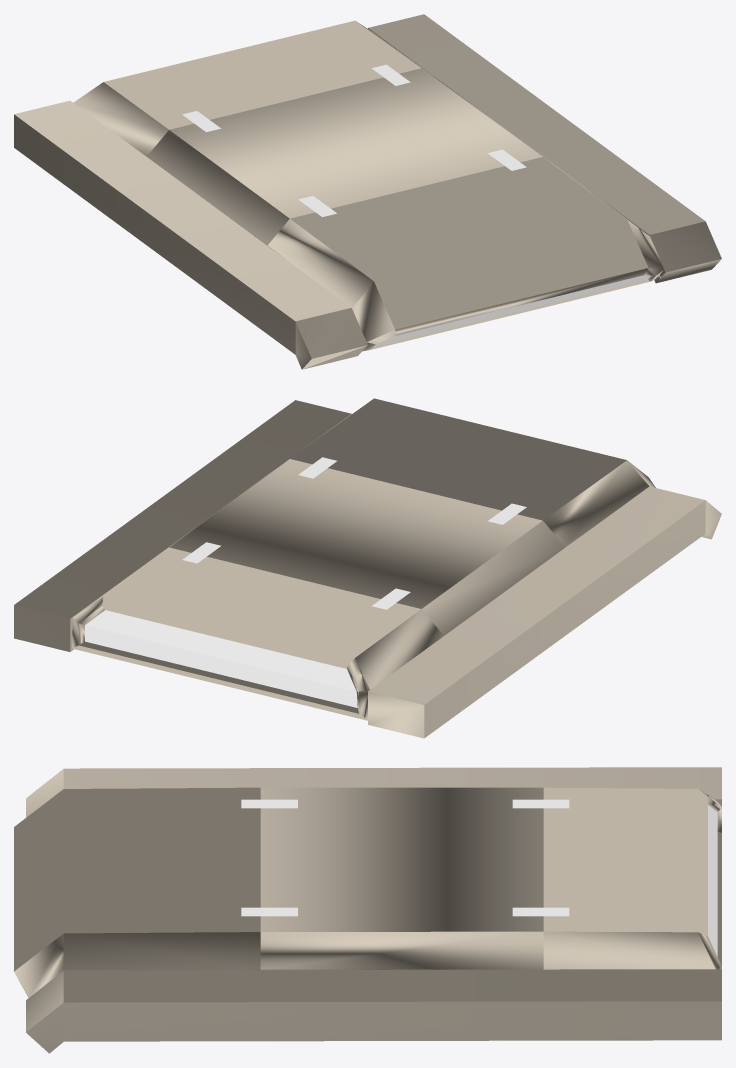
The model's file is barrier_flat_04x05x005.glb.
3 views of the same model, one above another, from view 1: azimuth 30°, elevation 25°; view 2: azimuth 150°, elevation 25°; view 3: azimuth 270°, elevation 25° (orthographic). The views are drawn at different scales.
Size of the model in its own units: 3.99 by 0.6269 by 5.1.
